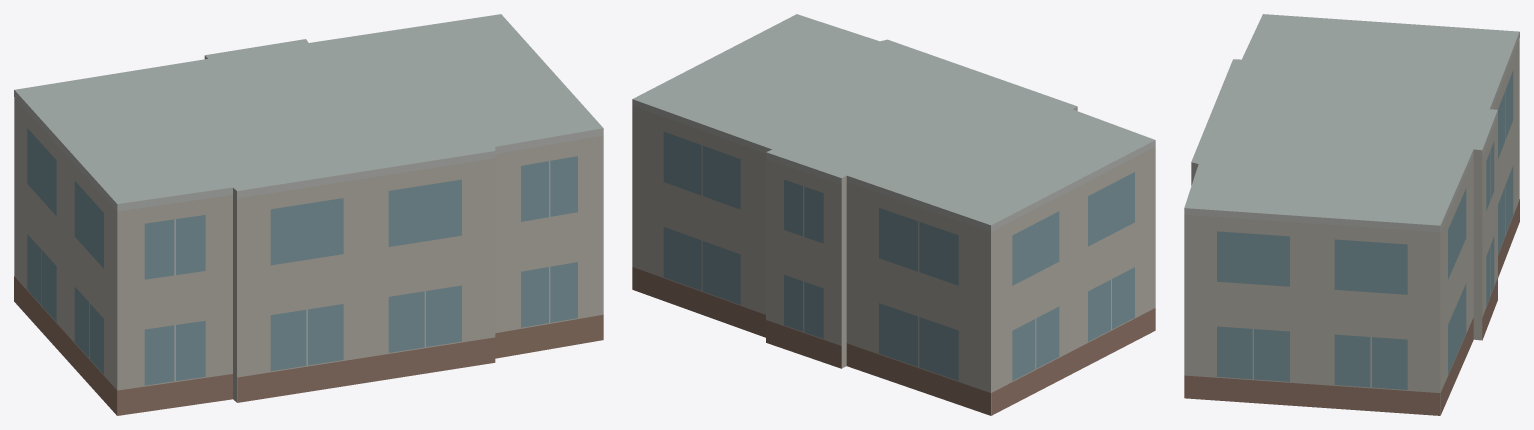
The model's file is survey-upis-32623878.glb.
3 views of the same model, side by side, from view 1: azimuth 30°, elevation 25°; view 2: azimuth 150°, elevation 25°; view 3: azimuth 270°, elevation 25° (orthographic). The views are drawn at different scales.
Visible parts, largest first — view 1: survey-upis-32623878.tmp; view 2: survey-upis-32623878.tmp; view 3: survey-upis-32623878.tmp.
Boxes of the visible parts, x1,y1,x2,y2 form: survey-upis-32623878.tmp: (14,14,603,415); survey-upis-32623878.tmp: (632,14,1155,415); survey-upis-32623878.tmp: (1184,14,1519,415).
Size of the model in its own units: 16.83 by 7.05 by 11.28.
